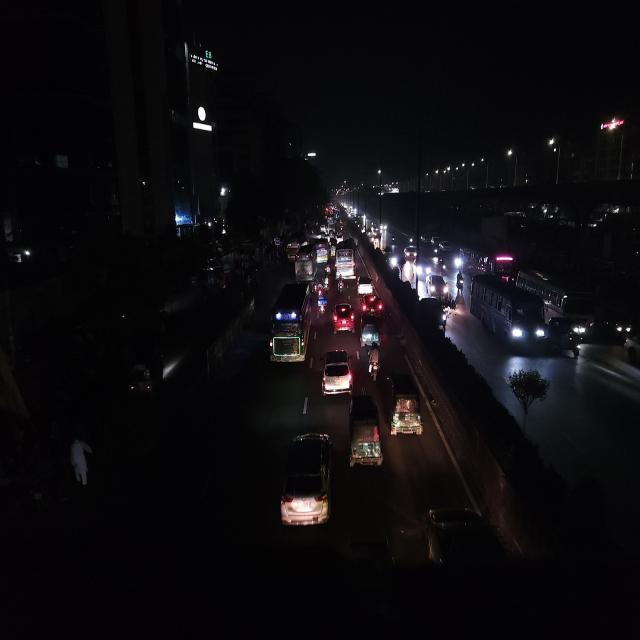bus: (469, 272, 547, 354), (518, 264, 596, 335), (266, 280, 315, 370), (468, 248, 518, 280), (335, 237, 359, 280), (293, 245, 317, 282), (314, 237, 330, 264)
car: (277, 427, 335, 540), (320, 346, 354, 401), (420, 295, 449, 337), (331, 297, 355, 336), (427, 272, 449, 299), (356, 273, 376, 299), (365, 293, 385, 318), (403, 244, 417, 262)
cng: (385, 347, 425, 443), (347, 392, 383, 474), (128, 352, 166, 405), (547, 315, 585, 363), (360, 312, 380, 348)
motorcycle: (366, 340, 382, 382), (317, 286, 328, 316), (454, 269, 466, 296), (336, 274, 346, 293), (322, 268, 330, 291)
